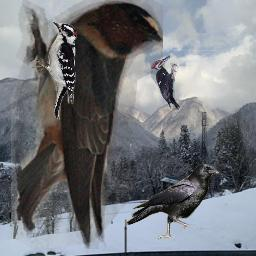Crow: (127, 163, 222, 240)
Swallow: (11, 0, 163, 249)
Woodpecker: (31, 20, 78, 120), (151, 55, 180, 110)
